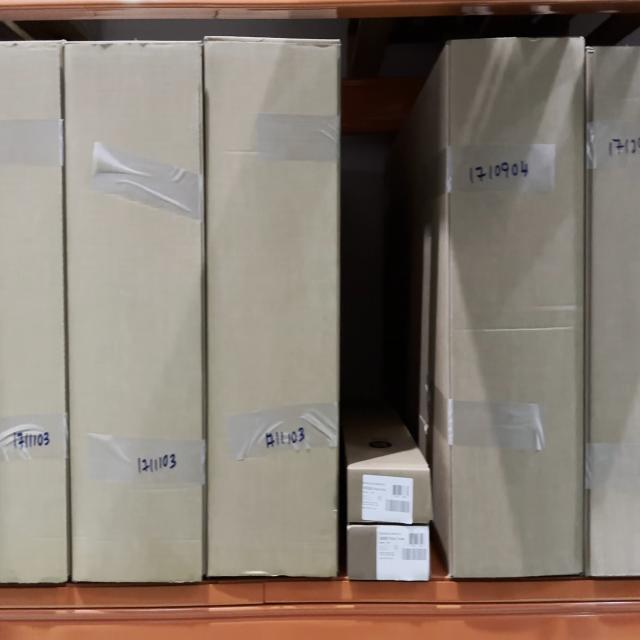box: (448, 42, 584, 573), (206, 40, 337, 575), (73, 44, 201, 578), (348, 471, 430, 523), (348, 527, 428, 578)
